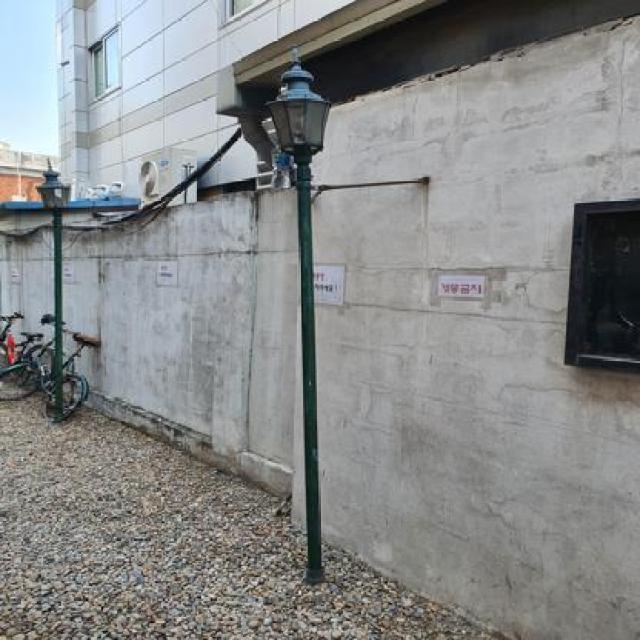pole: (249, 37, 345, 594)
